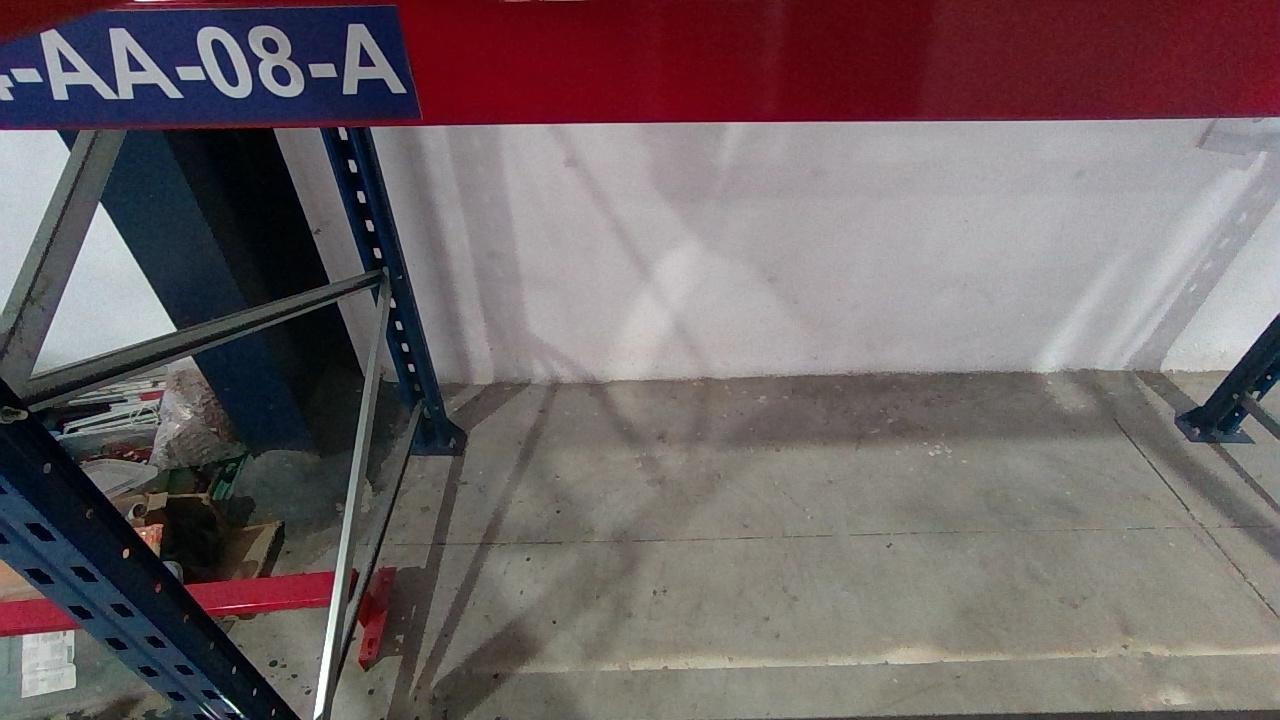h_rack: (20, 3, 1280, 132)
